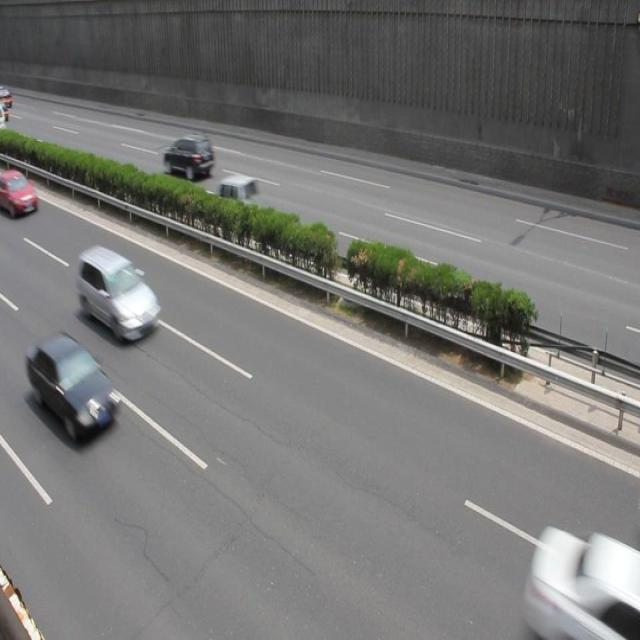car: (25, 331, 121, 443), (79, 244, 161, 344), (212, 173, 262, 226), (163, 134, 214, 180), (1, 167, 38, 218)
